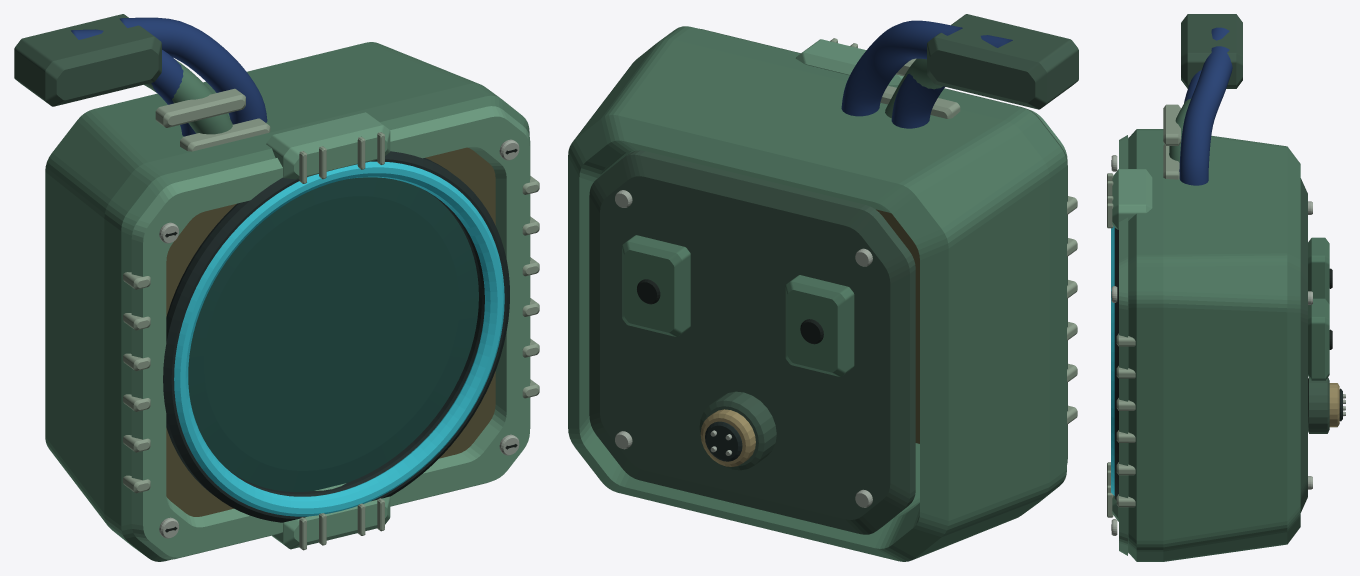
The model's file is HealthPanel.glb.
The picture shows the model from 3 angles, left to right: view 1: azimuth 30°, elevation 25°; view 2: azimuth 150°, elevation 25°; view 3: azimuth 270°, elevation 25°; orthographic projection. The views are drawn at different scales.
Visible parts, largest first — view 1: Casing, Dial_Display; view 2: Casing; view 3: Casing.
Boxes of the visible parts, x1,y1,x2,y2 form: Casing: (14, 14, 539, 561); Dial_Display: (188, 177, 478, 491); Casing: (568, 14, 1078, 561); Casing: (1107, 14, 1345, 561).
Size of the model in its own units: 0.2583 by 0.2771 by 0.1497.
